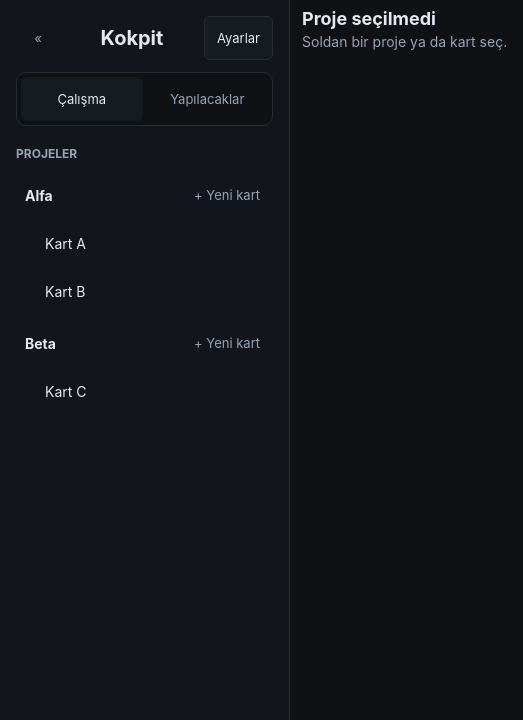
Test case: Workbench › shows create errors inline
The image size is (523, 720).
Click the button with aria-label "Yeni kart: Alfa".
click(227, 195)  # box x1=181 y1=173 x2=273 y2=217
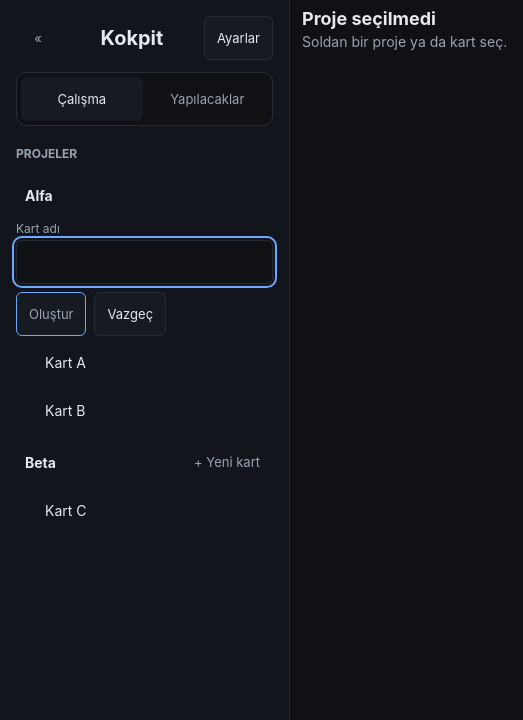
Type "x" into the field labelled "Kart adı".
click(144, 262); type("x")  # box x1=16 y1=240 x2=273 y2=284
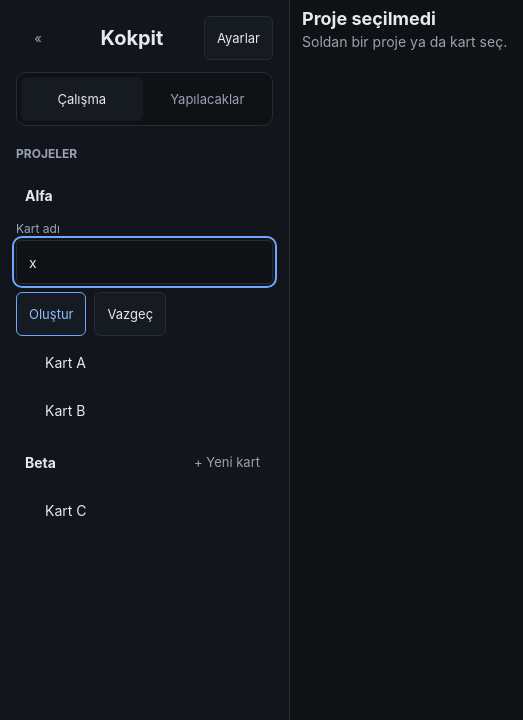
Click the button "Oluştur".
click(51, 314)  # box x1=16 y1=292 x2=86 y2=336
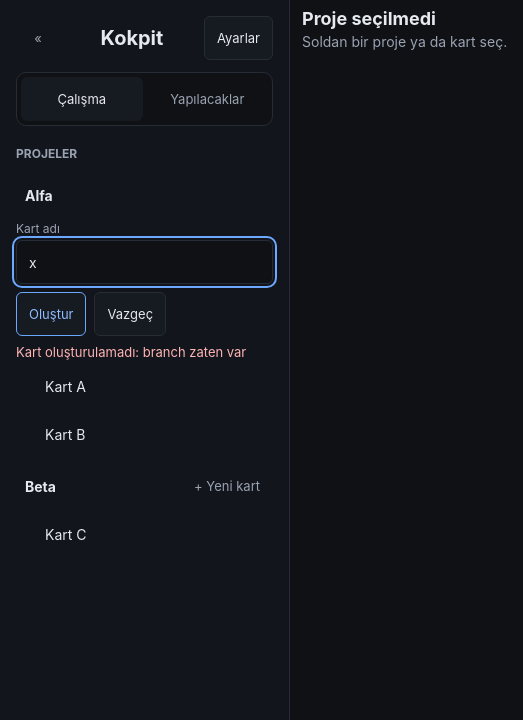
Expected: the message shows "branch zaten var", x1=16 y1=344 x2=246 y2=360
